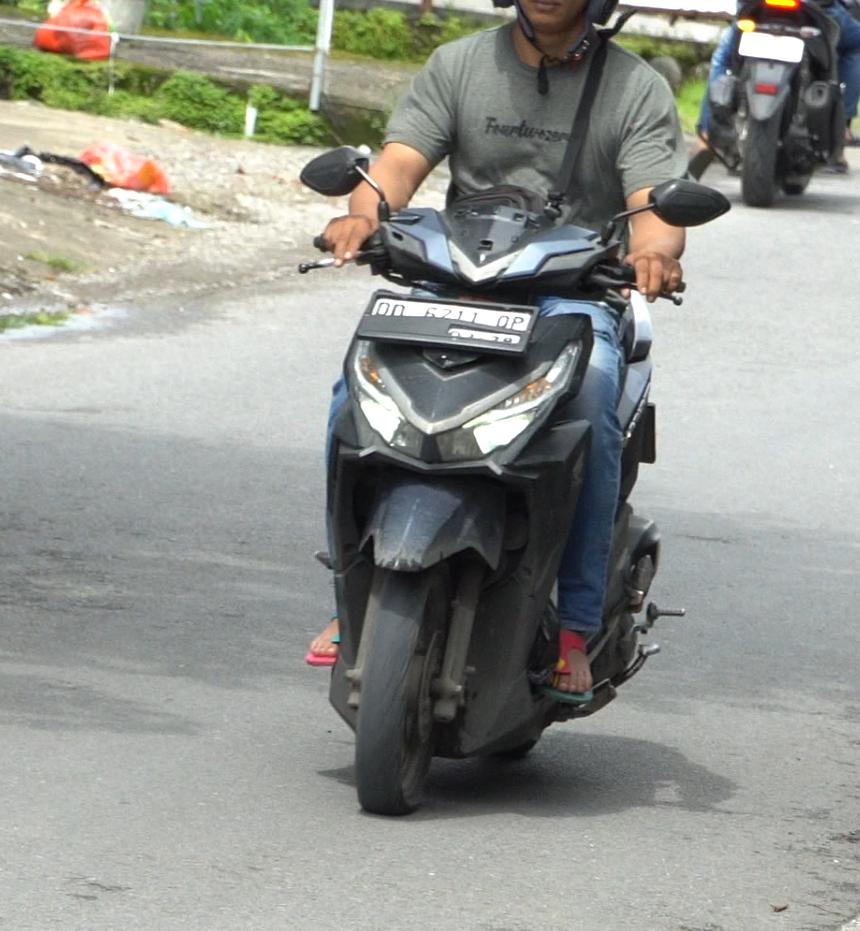number-plate: (351, 286, 539, 354)
